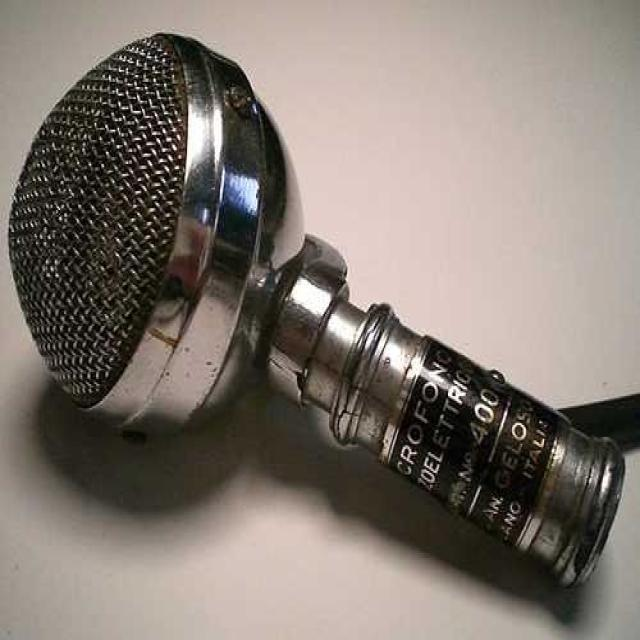microphone: (7, 33, 625, 575)
